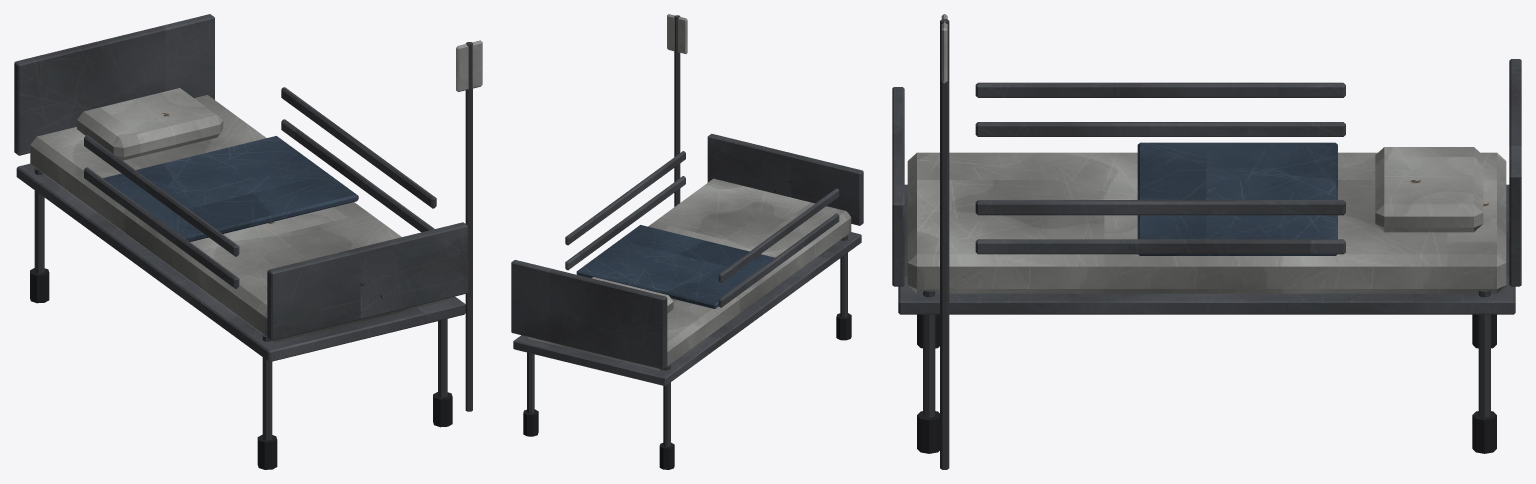
The model's file is hospital_bed.glb.
3 renders of one model, left to right at view 1: azimuth 30°, elevation 25°; view 2: azimuth 150°, elevation 25°; view 3: azimuth 270°, elevation 25°, orthographic. The views are drawn at different scales.
Visible parts, largest first — view 1: body; view 2: body; view 3: body.
Boxes of the visible parts, <box> form: body: <box>14,14,482,469</box>; body: <box>511,14,863,469</box>; body: <box>892,14,1521,469</box>.
Size of the model in its own units: 1.07 by 1.6 by 2.04.
Materials: 4 (4 with a texture image).
